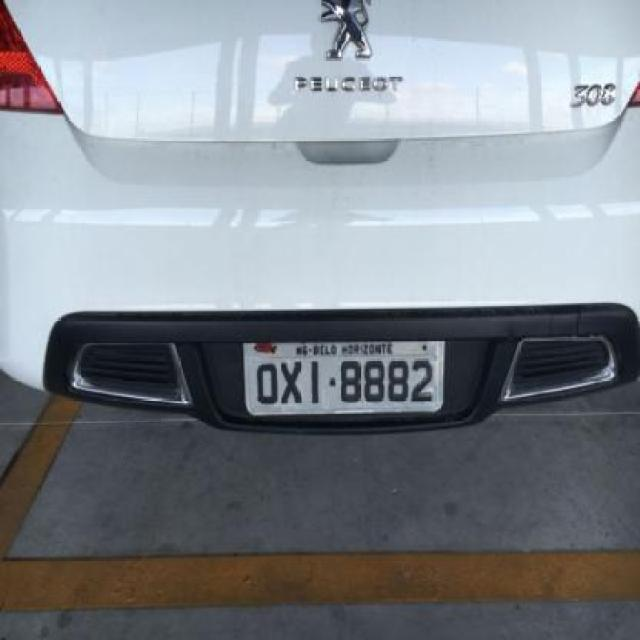old_plate: (240, 332, 448, 420)
